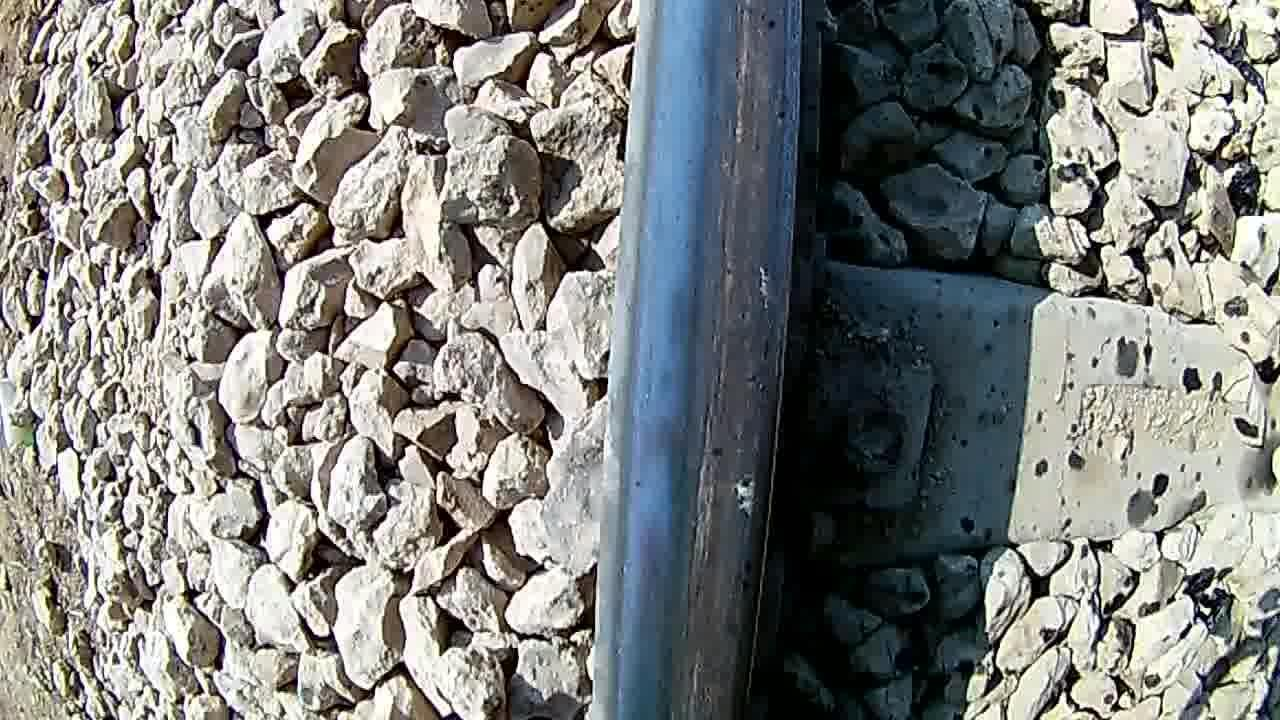crack: (676, 3, 800, 720)
